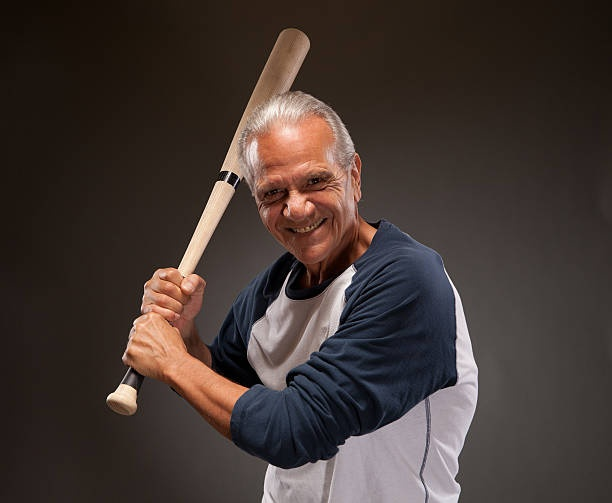bita: (106, 22, 309, 420)
